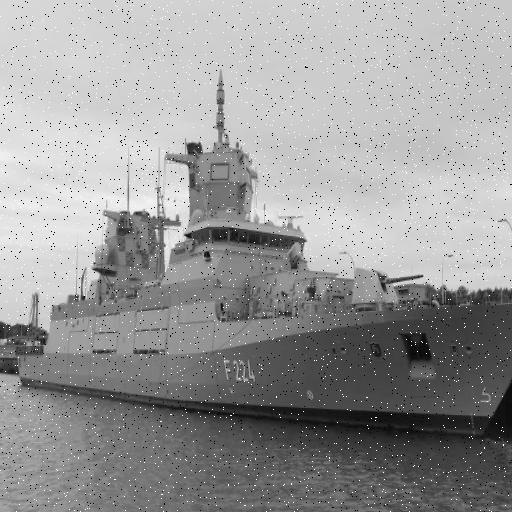Fragata: (13, 57, 512, 445)
